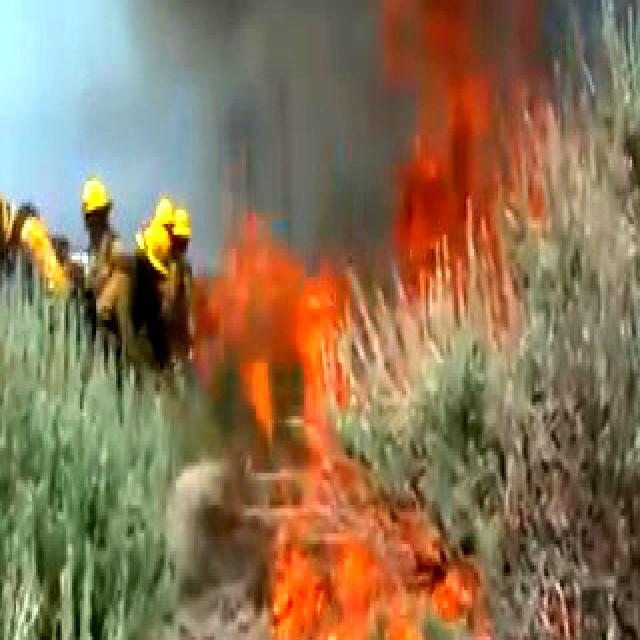fire: (214, 245, 472, 640), (328, 0, 542, 238)
smoke: (48, 0, 328, 135)
